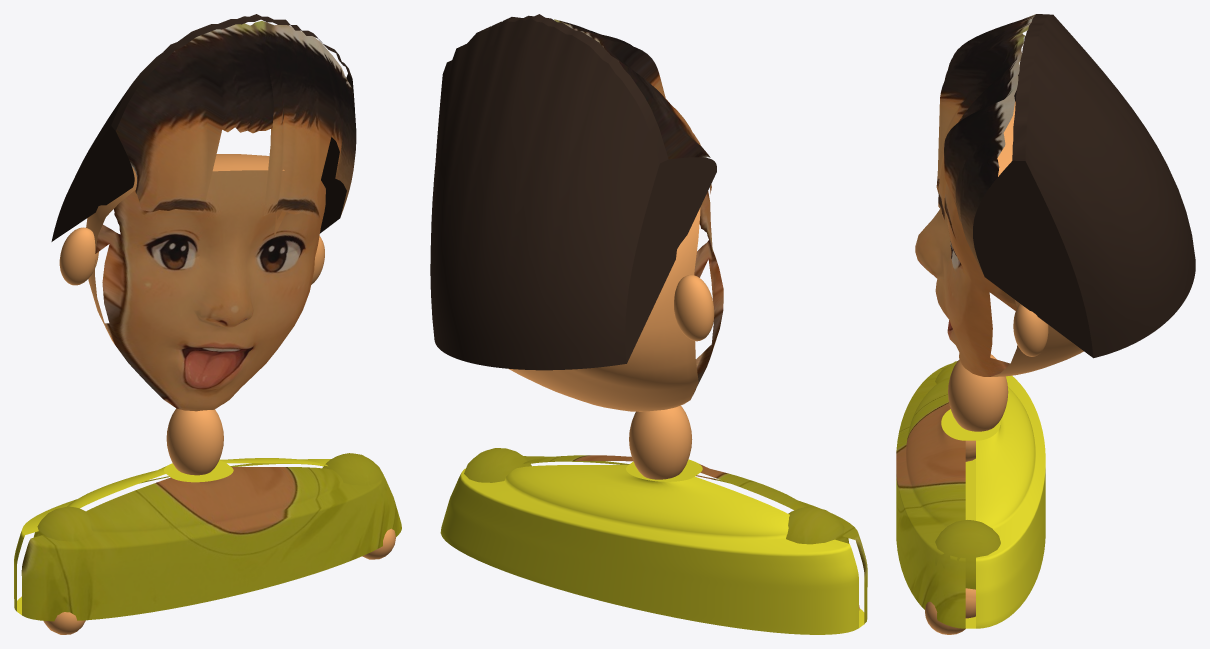
Rendered from portrait.glb.
3 views of the same model, side by side, from view 1: azimuth 30°, elevation 25°; view 2: azimuth 150°, elevation 25°; view 3: azimuth 270°, elevation 25° (orthographic). The views are drawn at different scales.
Visible parts, largest first — view 1: figure-surface-5, figure-surface-1, figure-surface-8, figure-surface-0, figure-surface-6, figure-surface-2, figure-surface-3; view 2: figure-surface-7, figure-surface-2, figure-surface-6, figure-surface-8, figure-surface-5, figure-surface-1, figure-surface-0, figure-surface-3; view 3: figure-surface-7, figure-surface-5, figure-surface-1, figure-surface-8, figure-surface-2, figure-surface-0, figure-surface-6, figure-surface-3, figure-surface-4.
Boxes of the visible parts, x1,y1,x2,y2 form: figure-surface-5: (95,21,356,411); figure-surface-1: (21,453,401,621); figure-surface-8: (51,14,354,241); figure-surface-0: (43,408,395,634); figure-surface-6: (59,154,324,344); figure-surface-2: (14,458,330,611); figure-surface-3: (164,460,233,482); figure-surface-7: (430,18,659,370); figure-surface-2: (440,465,858,634); figure-surface-6: (508,208,714,411); figure-surface-8: (465,14,716,362); figure-surface-5: (554,19,723,390); figure-surface-1: (464,448,867,623); figure-surface-0: (629,405,859,610); figure-surface-3: (626,459,702,481); figure-surface-7: (1025,14,1195,357); figure-surface-5: (915,14,1035,376); figure-surface-1: (896,361,1000,628); figure-surface-8: (973,14,1093,357); figure-surface-2: (976,375,1045,628); figure-surface-0: (925,354,1008,634); figure-surface-6: (991,101,1083,376); figure-surface-3: (941,409,1000,440); figure-surface-4: (965,458,975,628).
Size of the model in its own units: 2.21 by 2.97 by 1.45.
Materials: 9 (2 with a texture image).
